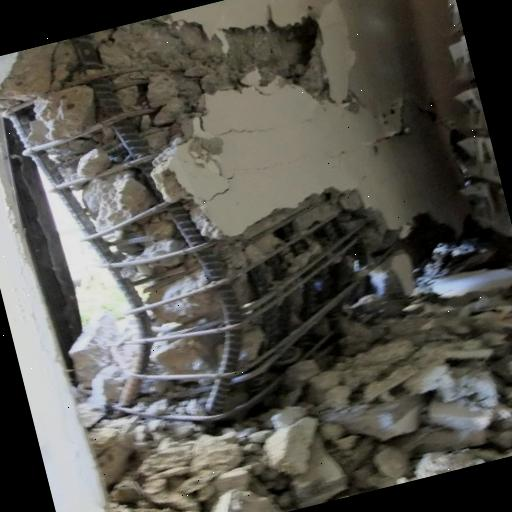spalling: (0, 22, 402, 423)
